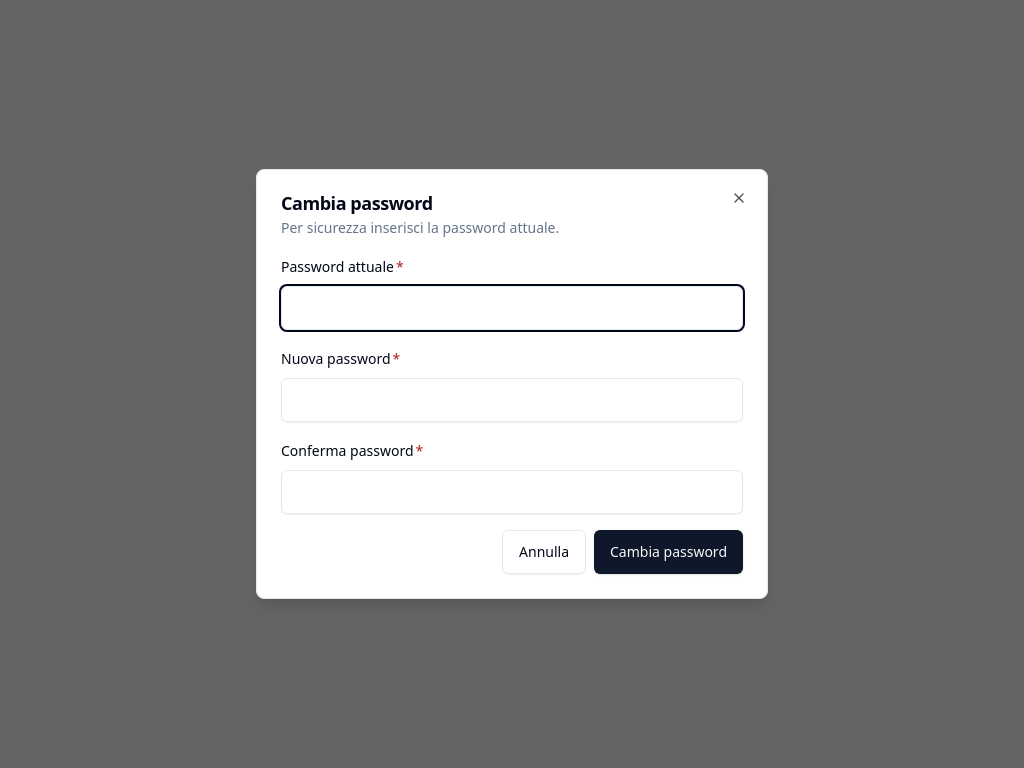
Test: ChangePasswordDialog › con conferma diversa mostra l'errore sul campo e non chiama il server
The width and height of the screenshot is (1024, 768).
Type "attuale-123" into the password field labelled "Password attuale*" at (512, 308), box [281,286,743,330]
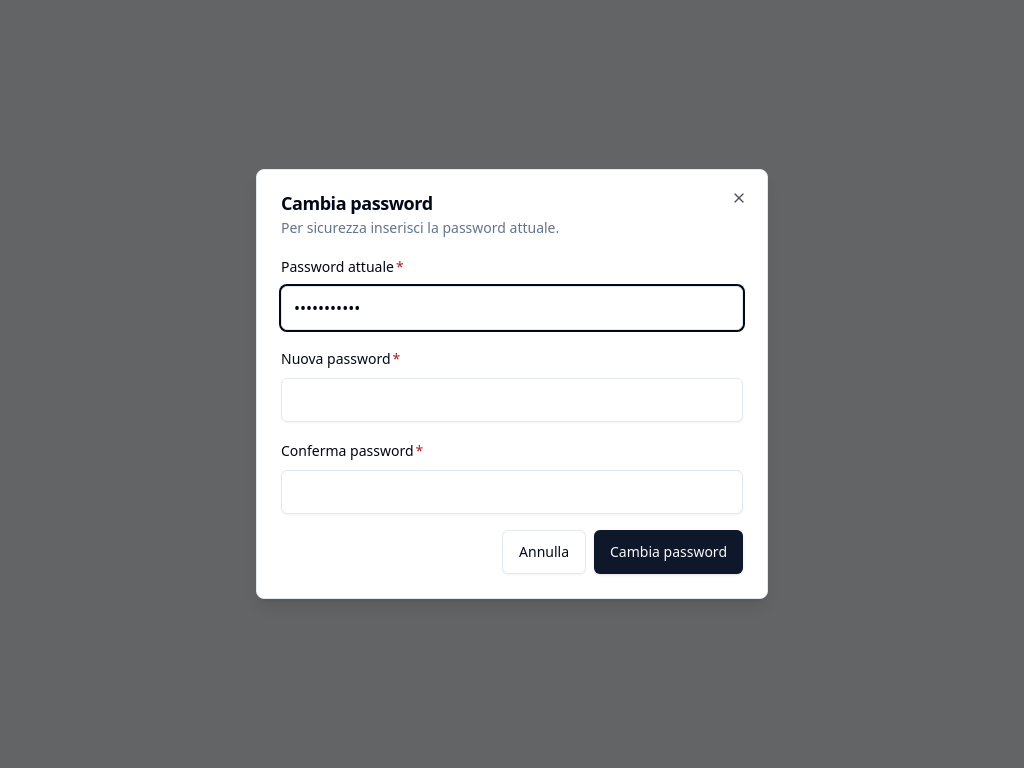
Type "nuova-password-1" into the password field labelled "Nuova password*" at (512, 400), box [281,378,743,422]
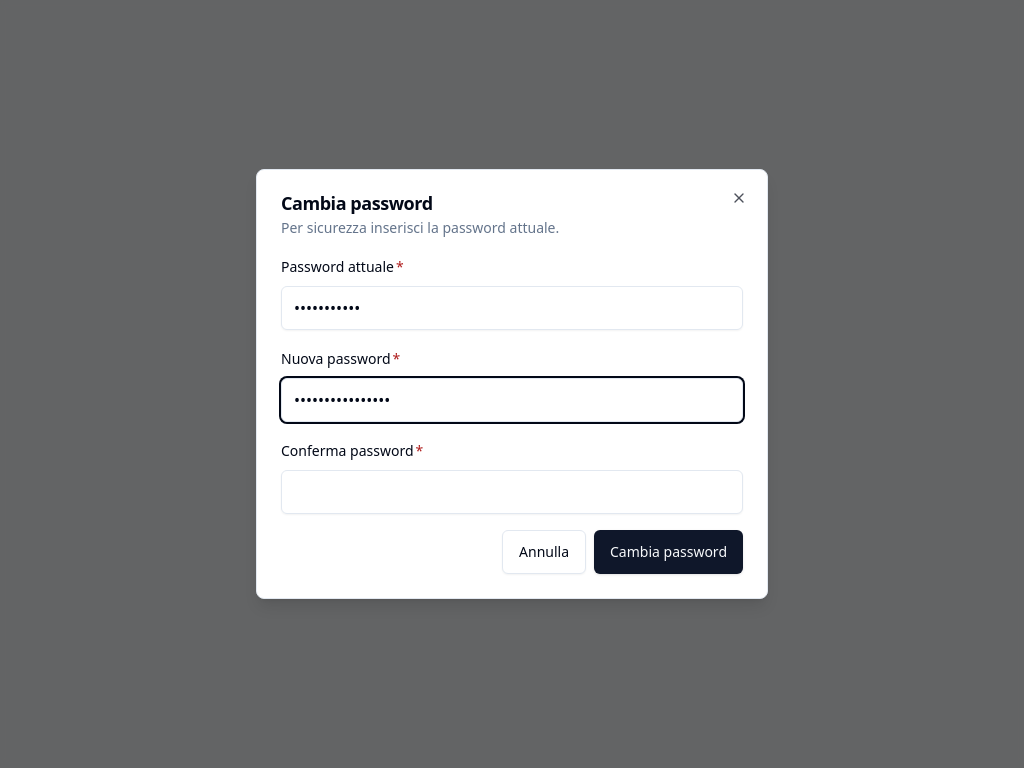
Type "nuova-password-2" into the password field labelled "Conferma password*" at (512, 492), box [281,470,743,514]
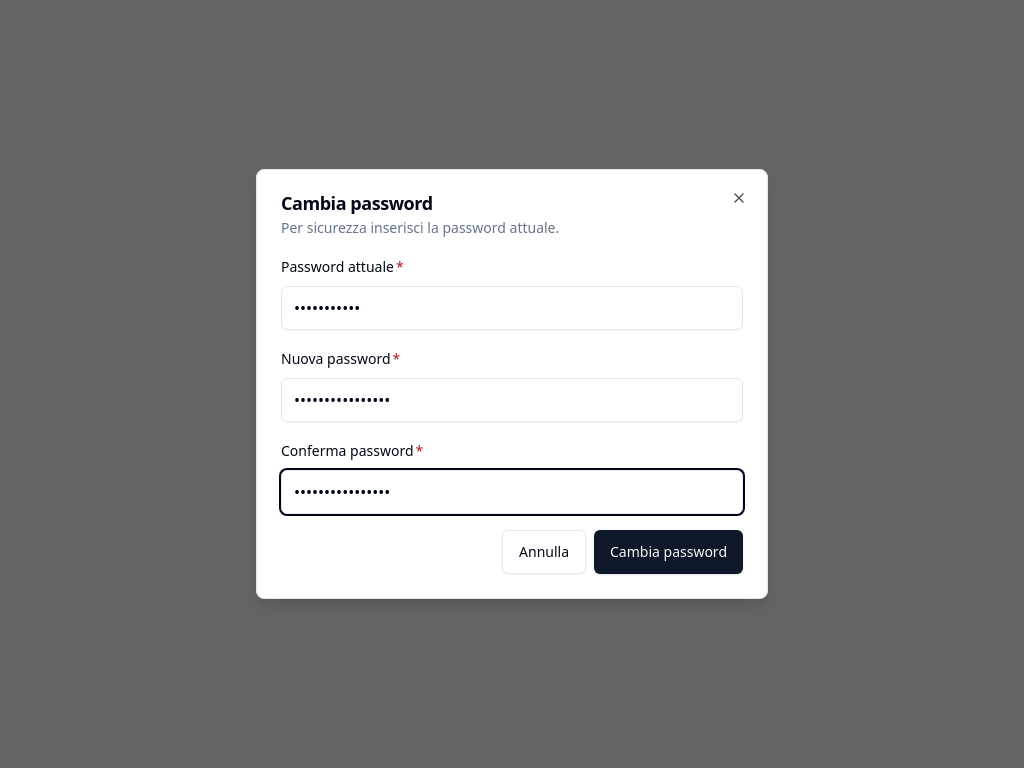
Click the button "Cambia password" at (668, 552), box [594,530,743,574]
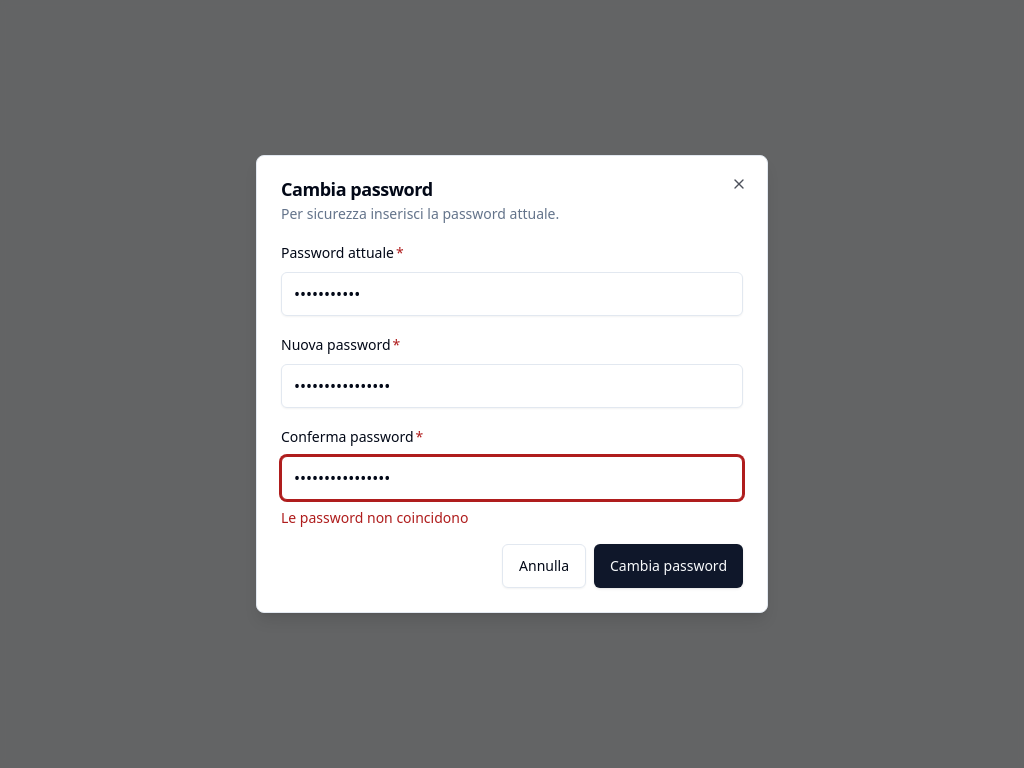
Expected: the text "Le password non coincidono" is shown, [281,508,468,527]
